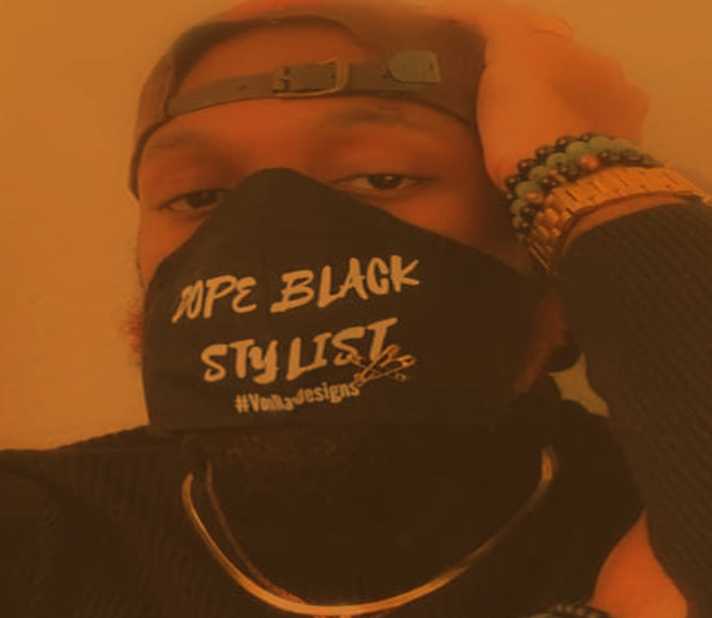mask_weared_incorrect: (104, 0, 595, 504)
